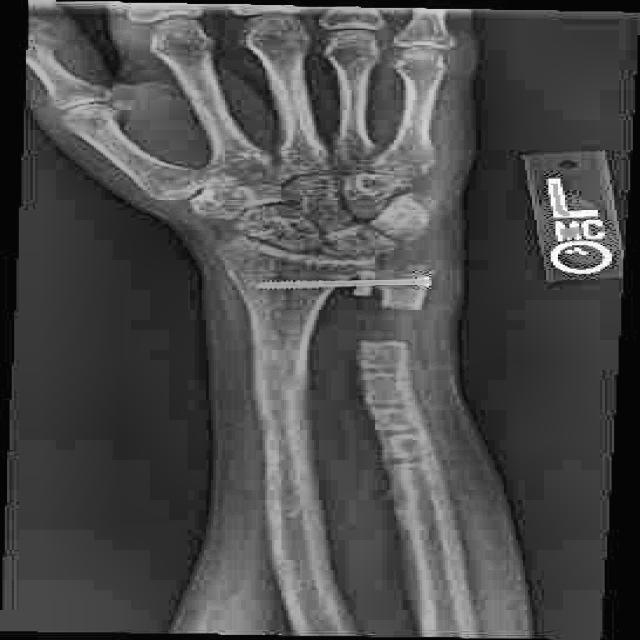wrist positive: (207, 228, 308, 290), (297, 169, 343, 196)
